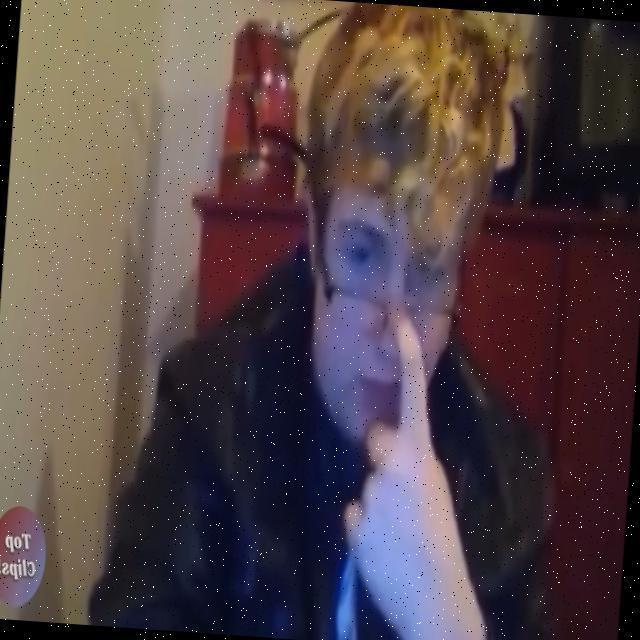person: (85, 0, 579, 640)
